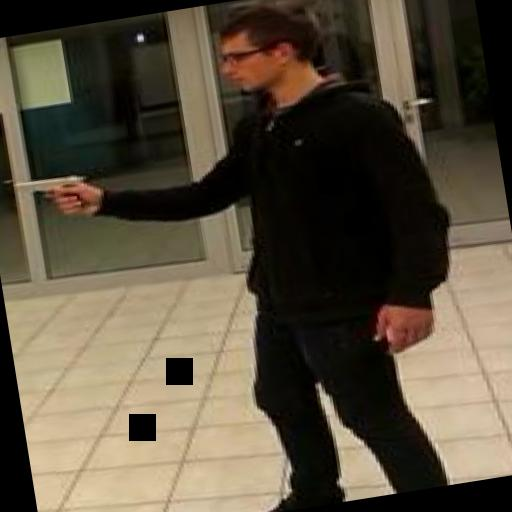Handgun: (3, 166, 97, 226)
